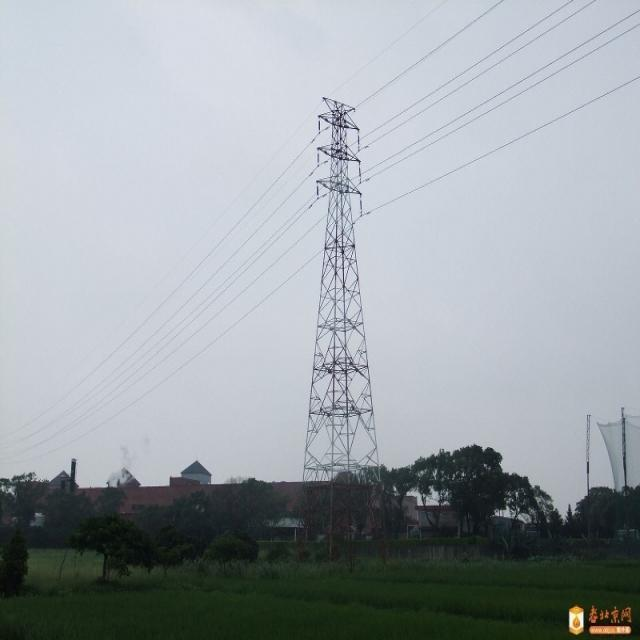non-critical vegetation: (304, 85, 393, 513)
